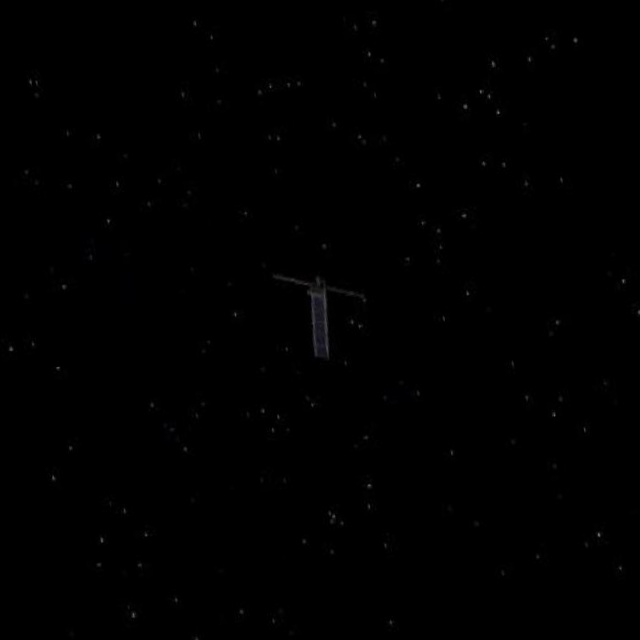medium_debris: (263, 247, 392, 365)
